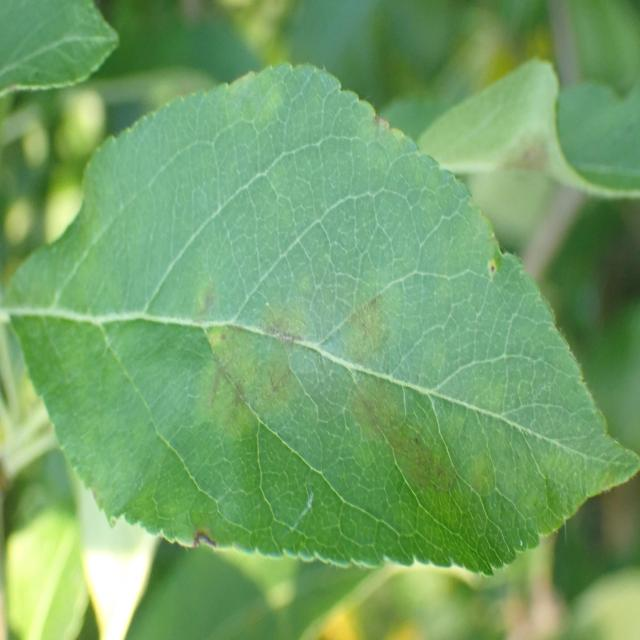scab: (43, 259, 506, 563), (320, 66, 428, 180), (494, 100, 580, 209)
